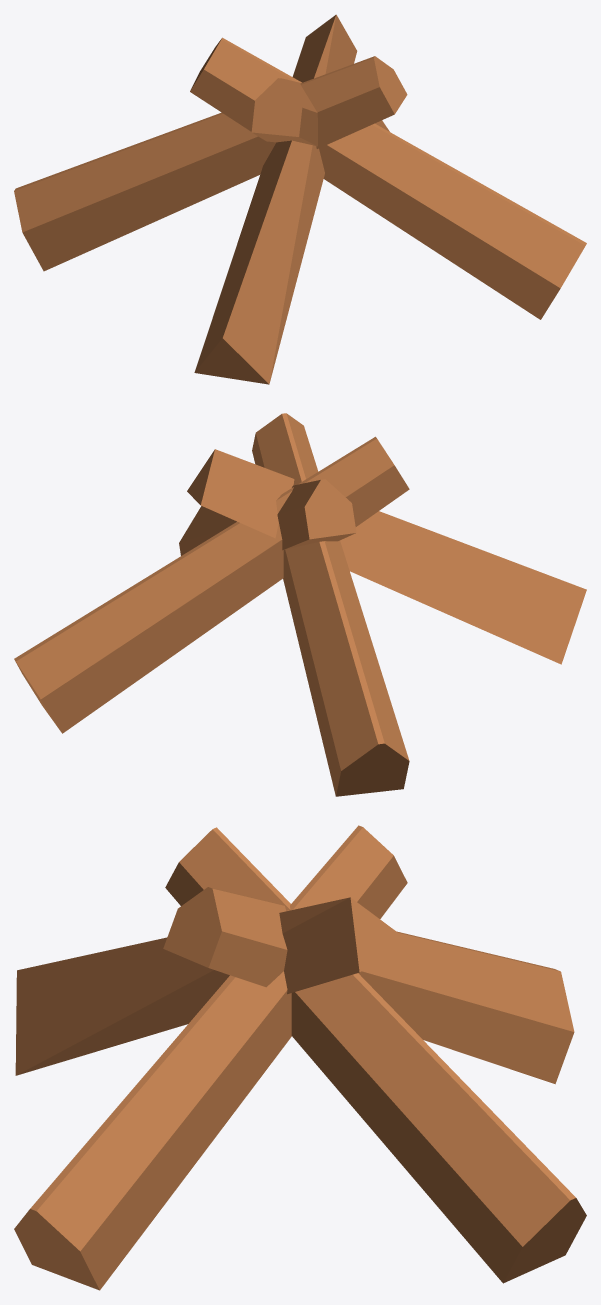
3 views of the same model, one above another, from view 1: azimuth 30°, elevation 25°; view 2: azimuth 150°, elevation 25°; view 3: azimuth 270°, elevation 25° (orthographic). The views are drawn at different scales.
Visible parts, largest first — view 1: Cube.017; view 2: Cube.017; view 3: Cube.017.
Part boxes in pixels (left/top/right/bottom): Cube.017: left=14, top=14, right=586, bottom=384; Cube.017: left=14, top=413, right=586, bottom=796; Cube.017: left=14, top=825, right=586, bottom=1290.
Bounding box in the file's own units: 0.2035 × 0.1183 × 0.1959.
